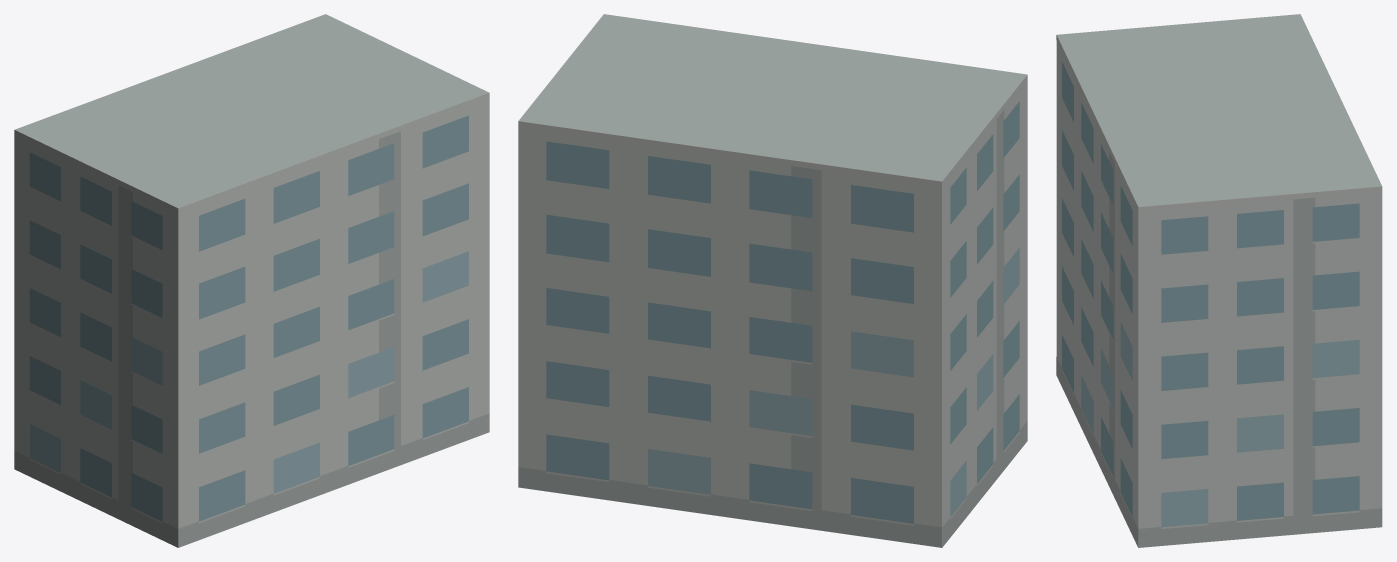
File: residential-633d5d42-6772-4bdd-999a-4ebc80a41ec2.glb
3 renders of one model, left to right at view 1: azimuth 30°, elevation 25°; view 2: azimuth 150°, elevation 25°; view 3: azimuth 270°, elevation 25°, orthographic. The views are drawn at different scales.
Visible parts, largest first — view 1: residential-633d5d42-6772-4bdd-999a-4ebc80a41ec2.tmp; view 2: residential-633d5d42-6772-4bdd-999a-4ebc80a41ec2.tmp; view 3: residential-633d5d42-6772-4bdd-999a-4ebc80a41ec2.tmp.
Part boxes in pixels (x1,y1,x2,y2): residential-633d5d42-6772-4bdd-999a-4ebc80a41ec2.tmp: (14,14,489,547); residential-633d5d42-6772-4bdd-999a-4ebc80a41ec2.tmp: (518,14,1027,547); residential-633d5d42-6772-4bdd-999a-4ebc80a41ec2.tmp: (1056,14,1382,547).
Size of the model in its own units: 18.55 by 15.25 by 13.23.
